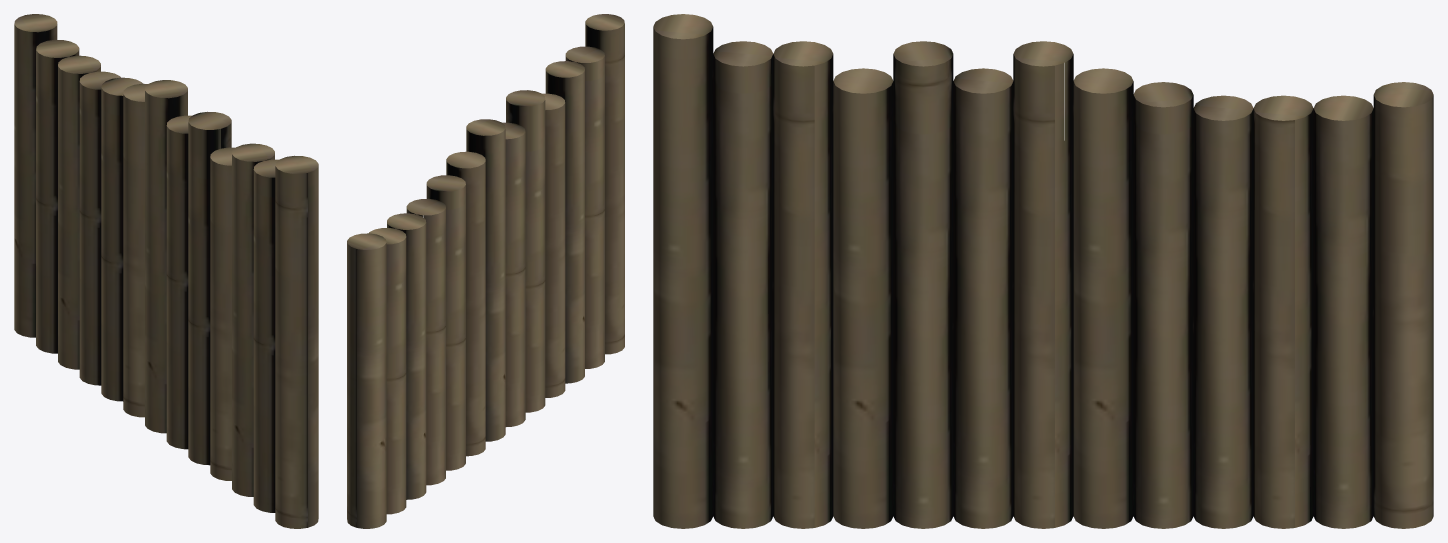
3 renders of one model, left to right at view 1: azimuth 30°, elevation 25°; view 2: azimuth 150°, elevation 25°; view 3: azimuth 270°, elevation 25°, orthographic. The views are drawn at different scales.
Visible parts, largest first — view 1: body0_model0_lod0_mesh0; view 2: body0_model0_lod0_mesh0; view 3: body0_model0_lod0_mesh0.
Part boxes in pixels (box(x1,y1,x2,y2)): body0_model0_lod0_mesh0: box(14, 14, 318, 528); body0_model0_lod0_mesh0: box(347, 14, 624, 528); body0_model0_lod0_mesh0: box(653, 14, 1433, 528).
Bounding box in the file's own units: 16 × 144 × 208.
1 material, 1 textured.
